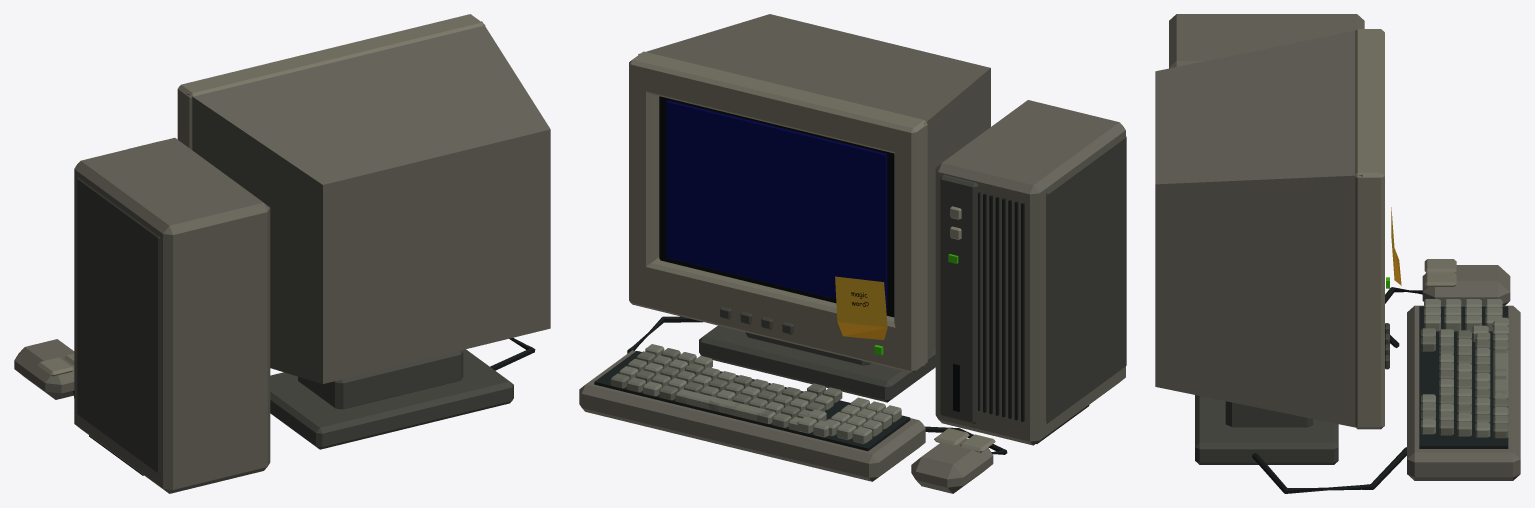
File: SM_Terminal.fbx
The picture shows the model from 3 angles, left to right: view 1: azimuth 30°, elevation 25°; view 2: azimuth 150°, elevation 25°; view 3: azimuth 270°, elevation 25°; orthographic projection. The views are drawn at different scales.
Parts seen in each view (by area): view 1: SM_Terminal • FBX; view 2: SM_Terminal • FBX; view 3: SM_Terminal • FBX.
Boxes of the visible parts, x1=… form: SM_Terminal • FBX: x1=14, y1=14, x2=550, y2=493; SM_Terminal • FBX: x1=579, y1=14, x2=1126, y2=493; SM_Terminal • FBX: x1=1155, y1=14, x2=1520, y2=493.
Size of the model in its own units: 368 by 267 by 256.
